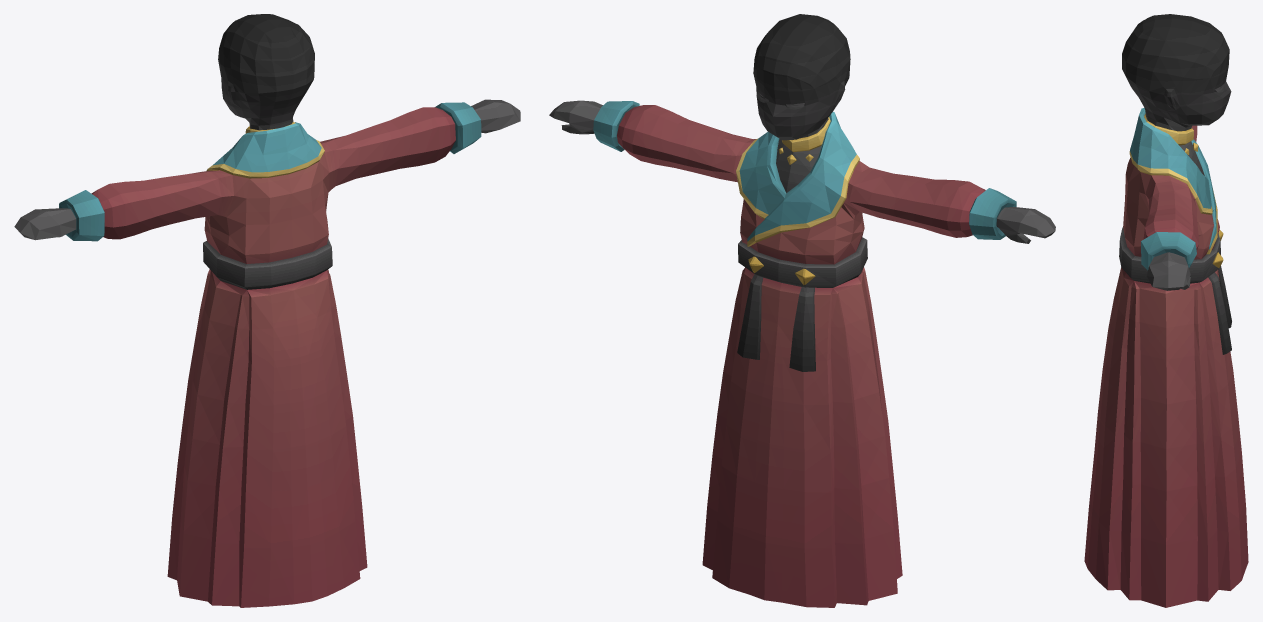
The model's file is CharSkyKid_Body_AP21RoyalDress.glb.
3 renders of one model, left to right at view 1: azimuth 30°, elevation 25°; view 2: azimuth 150°, elevation 25°; view 3: azimuth 270°, elevation 25°, orthographic.
Parts seen in each view (by area): view 1: CharSkyKid_Body_AP21RoyalDress; view 2: CharSkyKid_Body_AP21RoyalDress; view 3: CharSkyKid_Body_AP21RoyalDress.
Part boxes in pixels (x1=…): CharSkyKid_Body_AP21RoyalDress: x1=14, y1=14, x2=520, y2=607; CharSkyKid_Body_AP21RoyalDress: x1=549, y1=14, x2=1055, y2=607; CharSkyKid_Body_AP21RoyalDress: x1=1084, y1=14, x2=1248, y2=607.
Bounding box in the file's own units: 13.86 × 14.94 × 3.98.
1 material, 1 textured.
